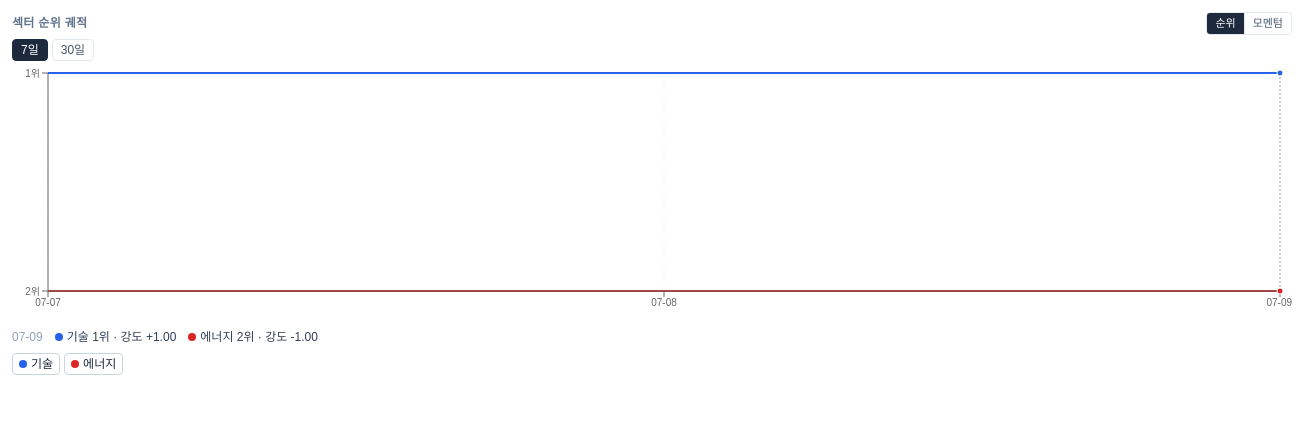
Test case: RegimeStrip — 국면 스트립 › 모멘텀 모드 + regimeHistory → 스트립 렌더(구간)
Click the tab with test id "traj-mode-momentum" at (1267, 23), box top-left (1244, 13), bottom-right (1291, 34)
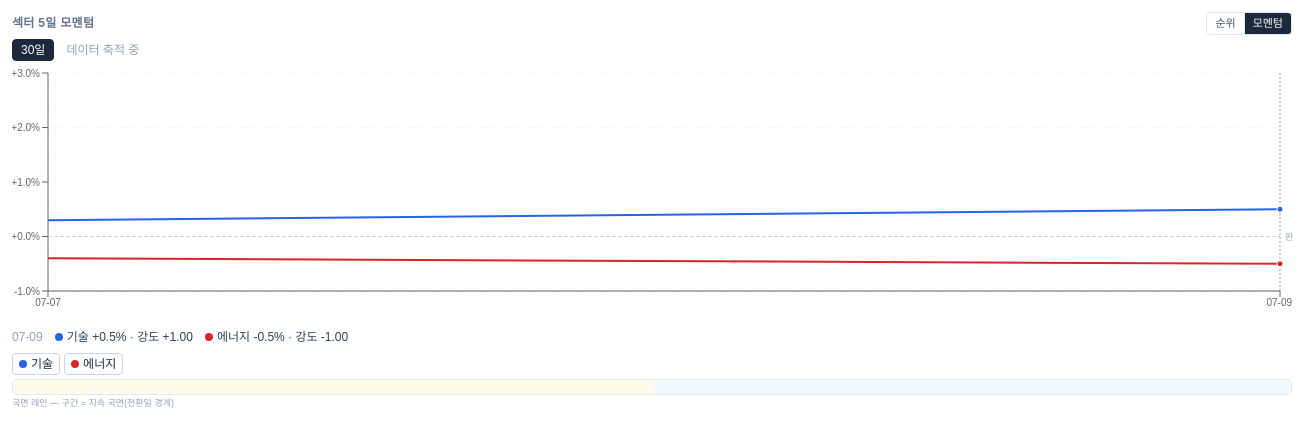
Result: the element with test id "regime-strip" is shown at top-left (12, 378), bottom-right (1292, 410)
Result: the element with test id "strip-seg-LATE_BULL" is shown at top-left (13, 380), bottom-right (652, 394)
Result: the element with test id "strip-seg-CRISIS" is shown at top-left (652, 380), bottom-right (1291, 394)
